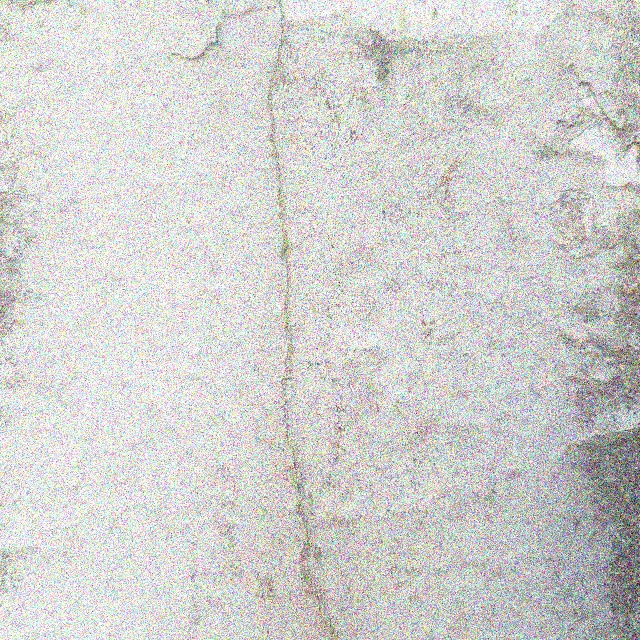SurfaceCrack: (227, 2, 362, 640)
